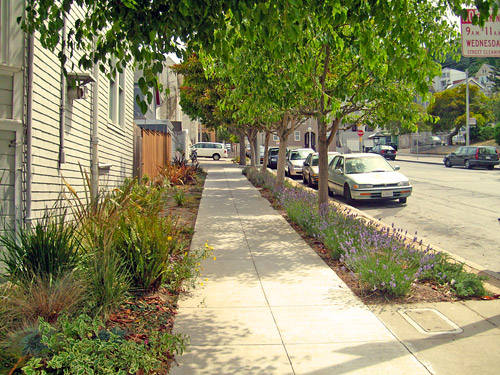tree: (204, 1, 462, 227)
